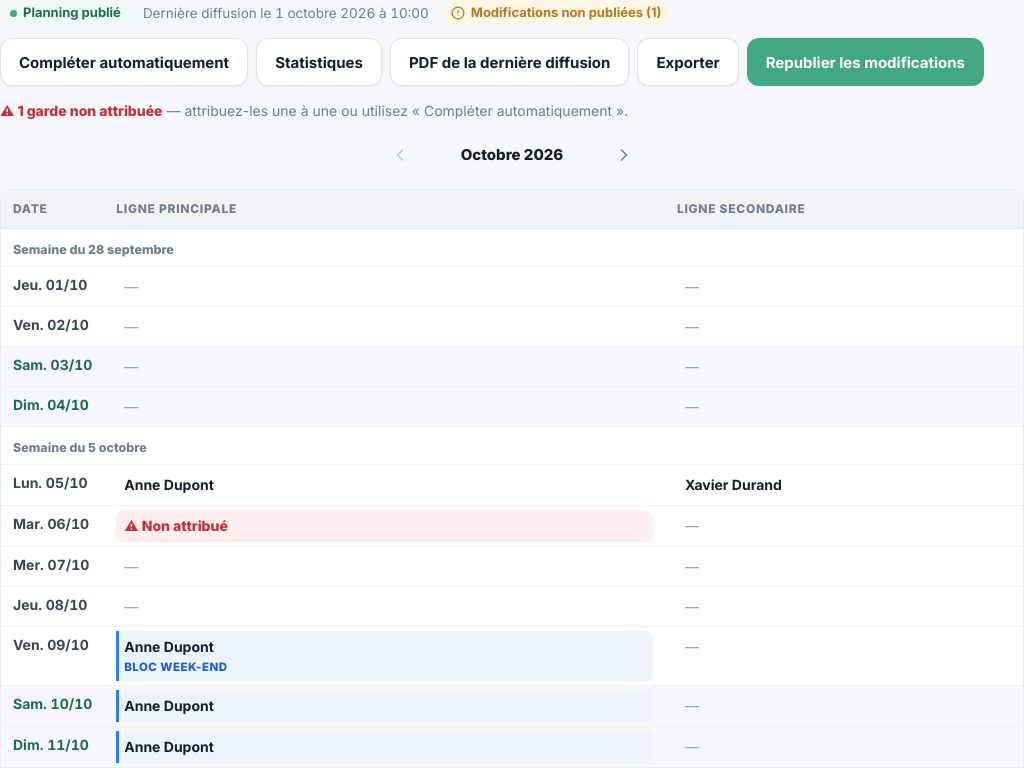
it: PlanningCalendar › shows "Modifications non publiées" and opens the republication with the changes
Expected: the text "Modifications non publiées (1)" is shown, left=441, top=0, right=672, bottom=26
Click the button "Republier les modifications" at (865, 62), box left=747, top=38, right=984, bottom=86
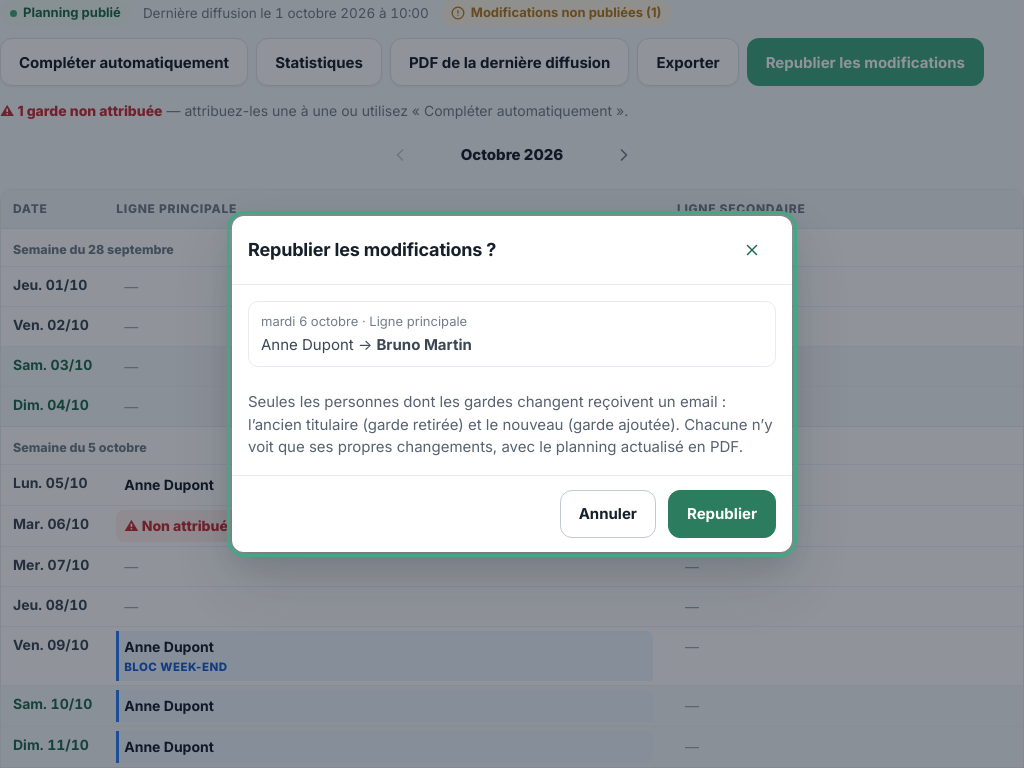
Now the heading "Republier les modifications ?" is shown, box left=248, top=240, right=496, bottom=261
Now the text "Bruno Martin" is shown, box left=376, top=335, right=472, bottom=354
Now the text "mardi 6 octobre · Ligne principale" is shown, box left=261, top=313, right=467, bottom=329
